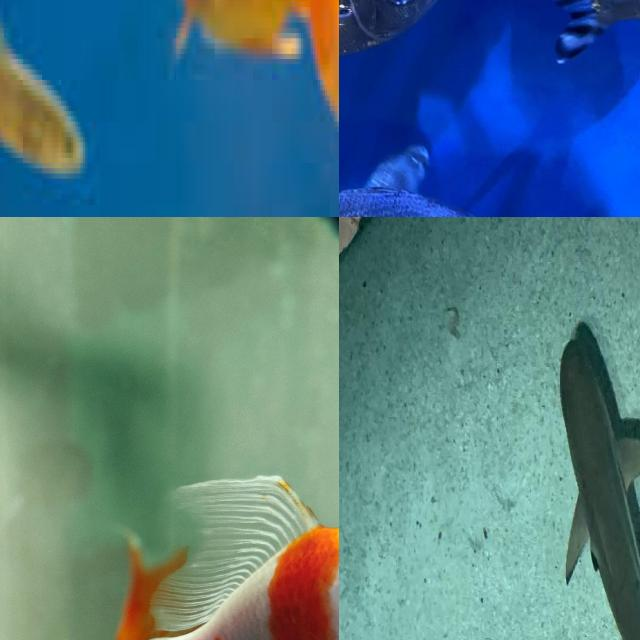fish: (76, 217, 339, 640), (0, 0, 339, 217), (555, 324, 640, 640)
